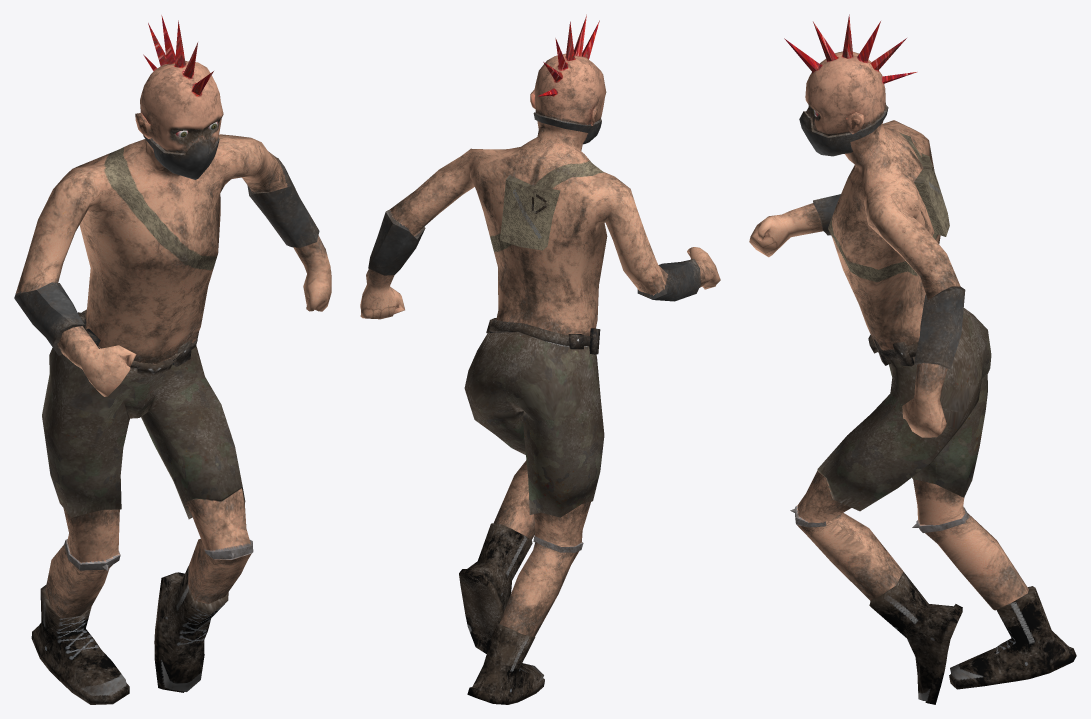
File: Anim_correr_npc2.0034.obj
3 renders of one model, left to right at view 1: azimuth 30°, elevation 25°; view 2: azimuth 150°, elevation 25°; view 3: azimuth 270°, elevation 25°, orthographic. The views are drawn at different scales.
Visible parts, largest first — view 1: Anim_correr_npc2; view 2: Anim_correr_npc2; view 3: Anim_correr_npc2.
Part boxes in pixels (box(x1,y1,x2,y2)): Anim_correr_npc2: box(14, 15, 331, 704); Anim_correr_npc2: box(360, 14, 720, 704); Anim_correr_npc2: box(749, 14, 1076, 704).
Bounding box in the file's own units: 4.71 × 9.64 × 4.24.
